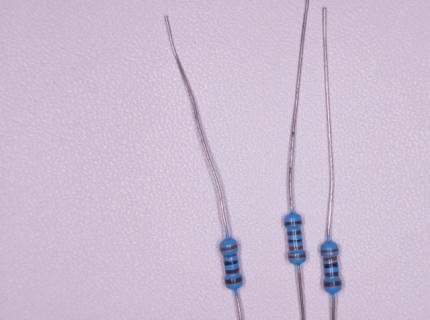Black band: (324, 262, 338, 269), (224, 260, 238, 266), (288, 239, 302, 243)
Brown band: (225, 277, 242, 285), (284, 220, 302, 226), (325, 281, 342, 287), (325, 271, 339, 277), (288, 230, 301, 236), (226, 268, 239, 274)
Orange band: (221, 244, 238, 251), (289, 254, 306, 259), (322, 248, 338, 253), (324, 256, 337, 262), (223, 253, 237, 258), (289, 246, 303, 251)
